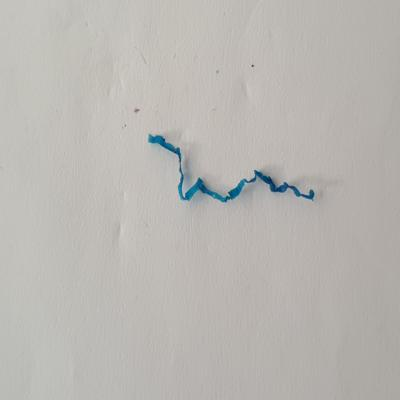thread: (146, 129, 329, 211)
